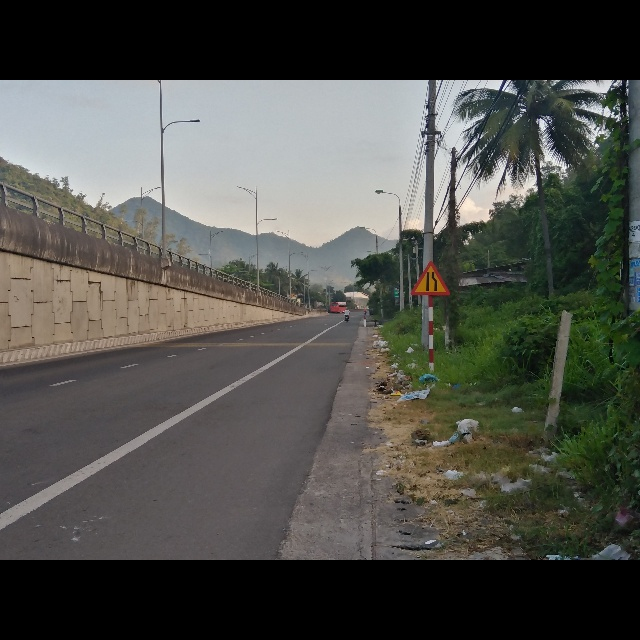Đường bị hẹp bên phải: (411, 261, 451, 296)
